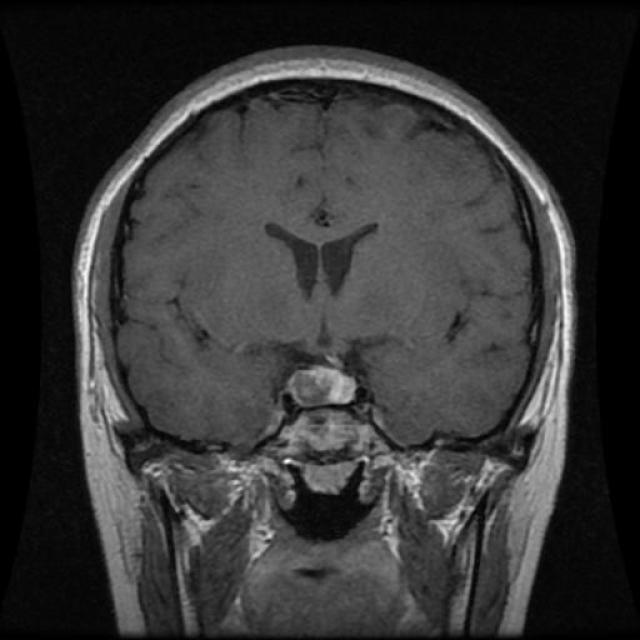pituitary: (272, 348, 372, 414)
